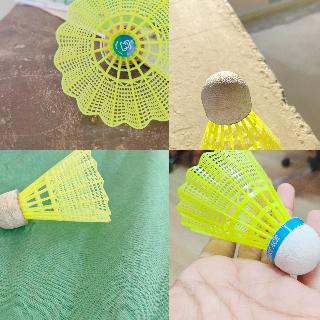shuttlecock: (177, 150, 319, 274), (54, 0, 168, 129), (0, 150, 112, 229), (195, 70, 285, 149)
